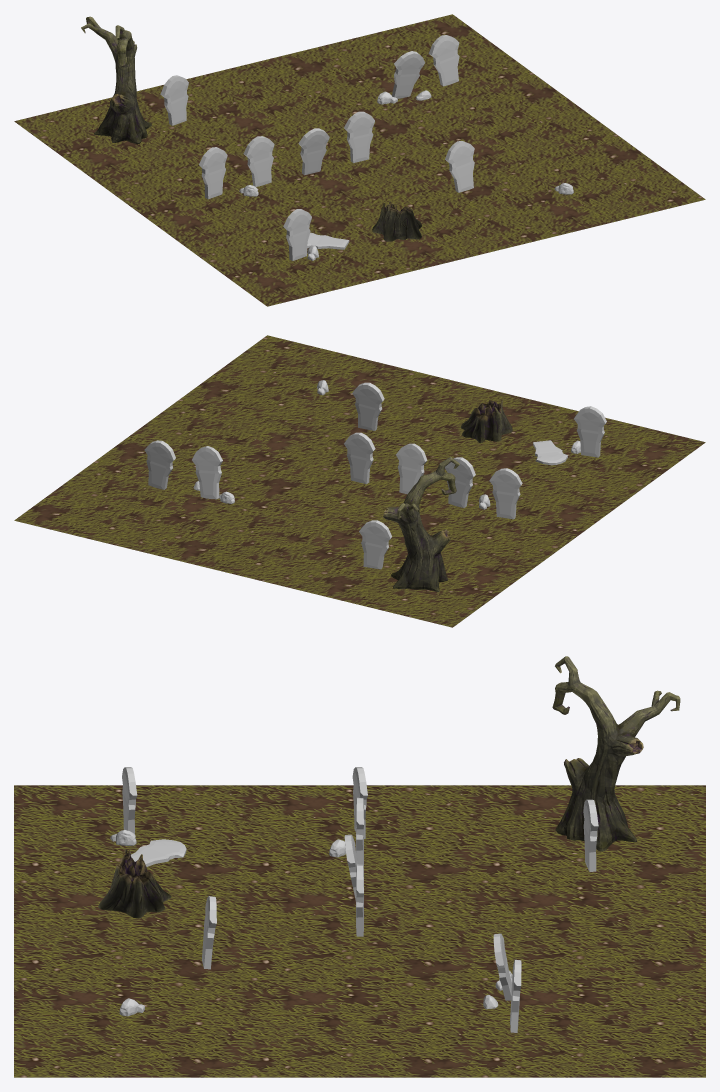
File: Edge_Diorama_1.FBX
The picture shows the model from 3 angles, top to bottom: view 1: azimuth 30°, elevation 25°; view 2: azimuth 150°, elevation 25°; view 3: azimuth 270°, elevation 25°; orthographic projection. The views are drawn at different scales.
Visible parts, largest first — view 1: Floor001; view 2: Floor001; view 3: Floor001.
Part boxes in pixels (x1,y1,x2,y2): Floor001: (14, 14, 705, 306); Floor001: (14, 335, 705, 627); Floor001: (14, 656, 705, 1077).
Size of the model in its own units: 450 by 450 by 121.
